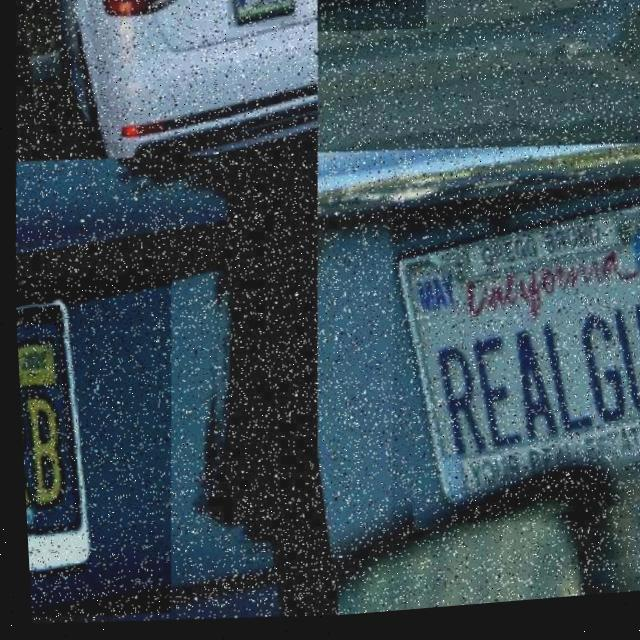LicensePlate: (372, 190, 640, 545), (11, 268, 181, 624), (313, 0, 428, 43), (225, 0, 298, 35)
